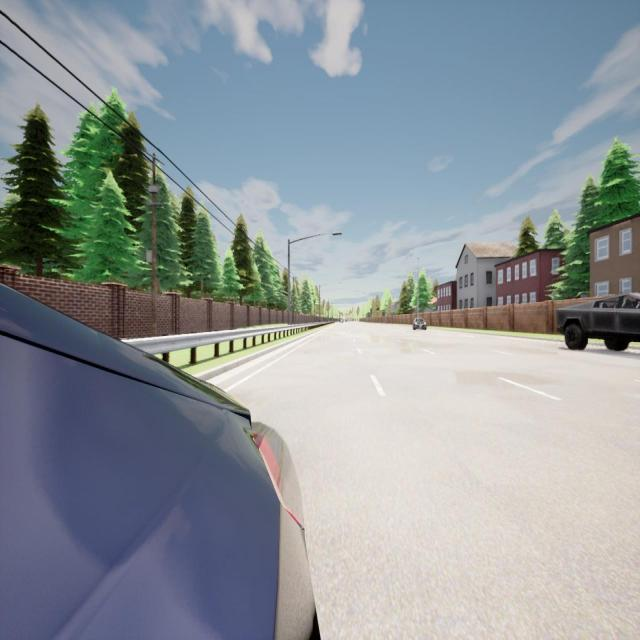Vehicle: (0, 284, 314, 638), (555, 293, 640, 351), (411, 317, 428, 333), (340, 319, 343, 324)
